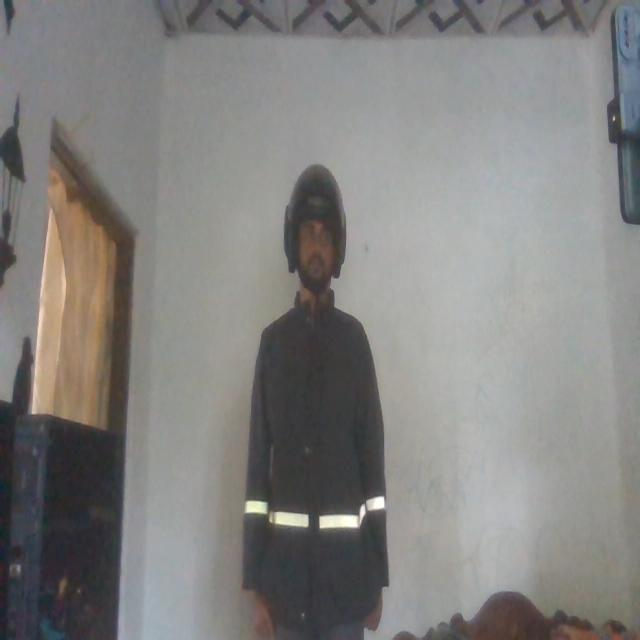Helmet_Wearer: (279, 152, 353, 303)
Jacket_Wearer: (241, 294, 399, 628)
Person: (238, 179, 379, 640)
